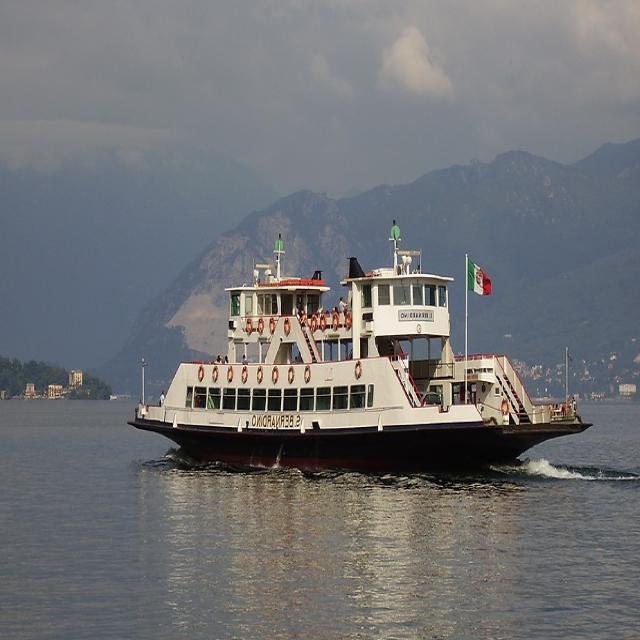passenger ship: (120, 242, 577, 468)
